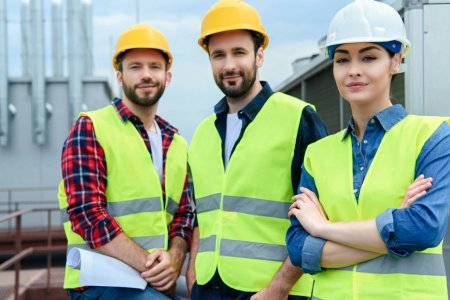casco: (320, 1, 412, 61), (196, 1, 270, 52), (112, 23, 173, 74)
